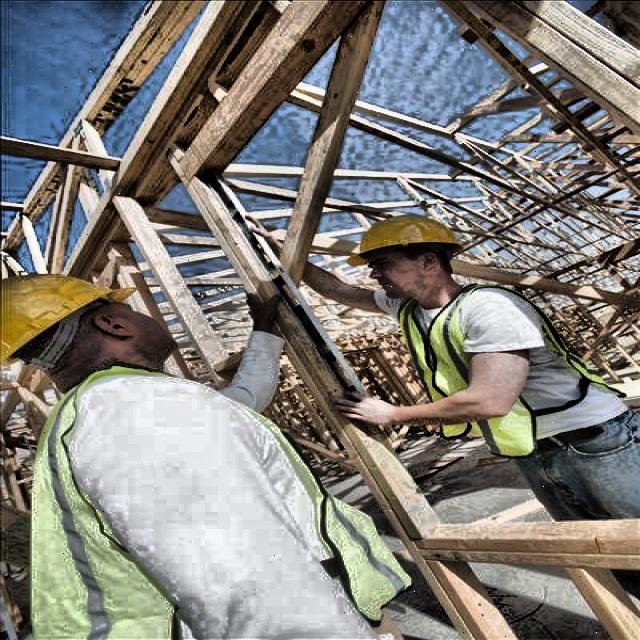helmet: (0, 252, 176, 388), (334, 202, 484, 306)
